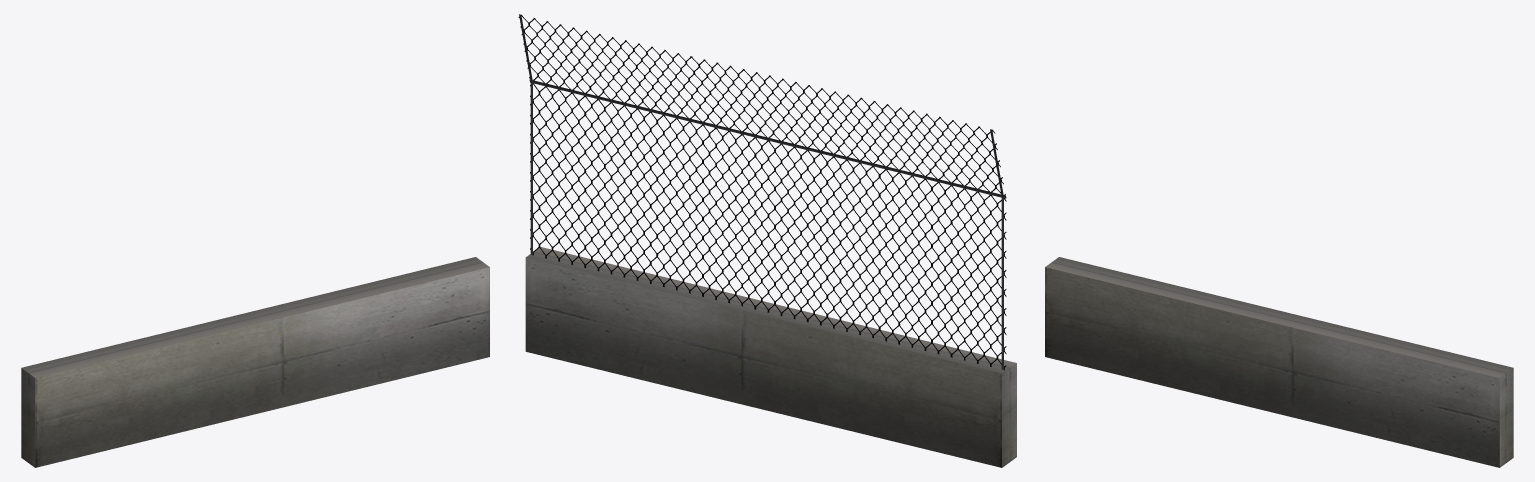
The model's file is fence1.fbx.
The picture shows the model from 3 angles, left to right: view 1: azimuth 30°, elevation 25°; view 2: azimuth 150°, elevation 25°; view 3: azimuth 330°, elevation 25°; orthographic projection. The views are drawn at different scales.
Parts seen in each view (by area): view 1: pCube3; view 2: pCube3; view 3: pCube3.
Boxes of the visible parts, box(x1,y1,x2,y2) form: pCube3: box(21, 257, 489, 467); pCube3: box(518, 14, 1016, 467); pCube3: box(1045, 257, 1513, 467).
Bounding box in the file's own units: 10.61 × 7.3 × 0.8557.
2 materials, 2 textured.
